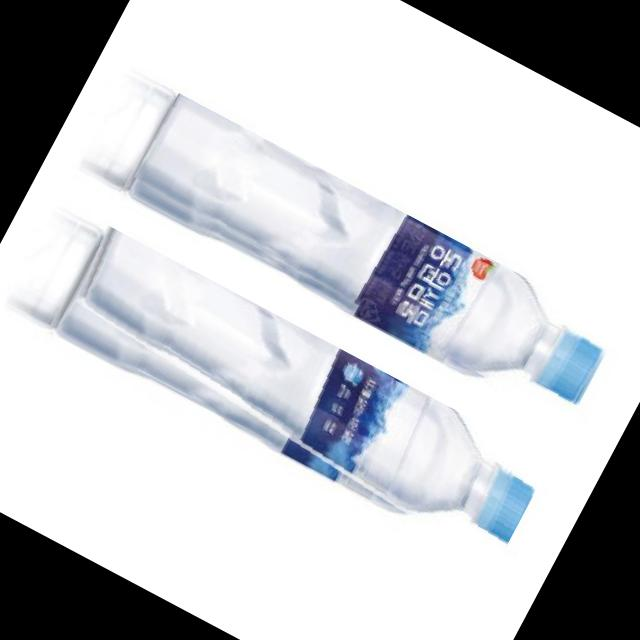plastic bottle: (44, 222, 550, 570), (125, 92, 618, 424)
